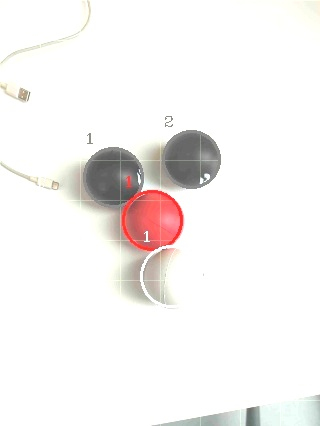Pelota blanca: (137, 246, 206, 310)
Pelota negra: (82, 145, 145, 206), (161, 129, 222, 190)
Pelota roja: (119, 188, 185, 251)
